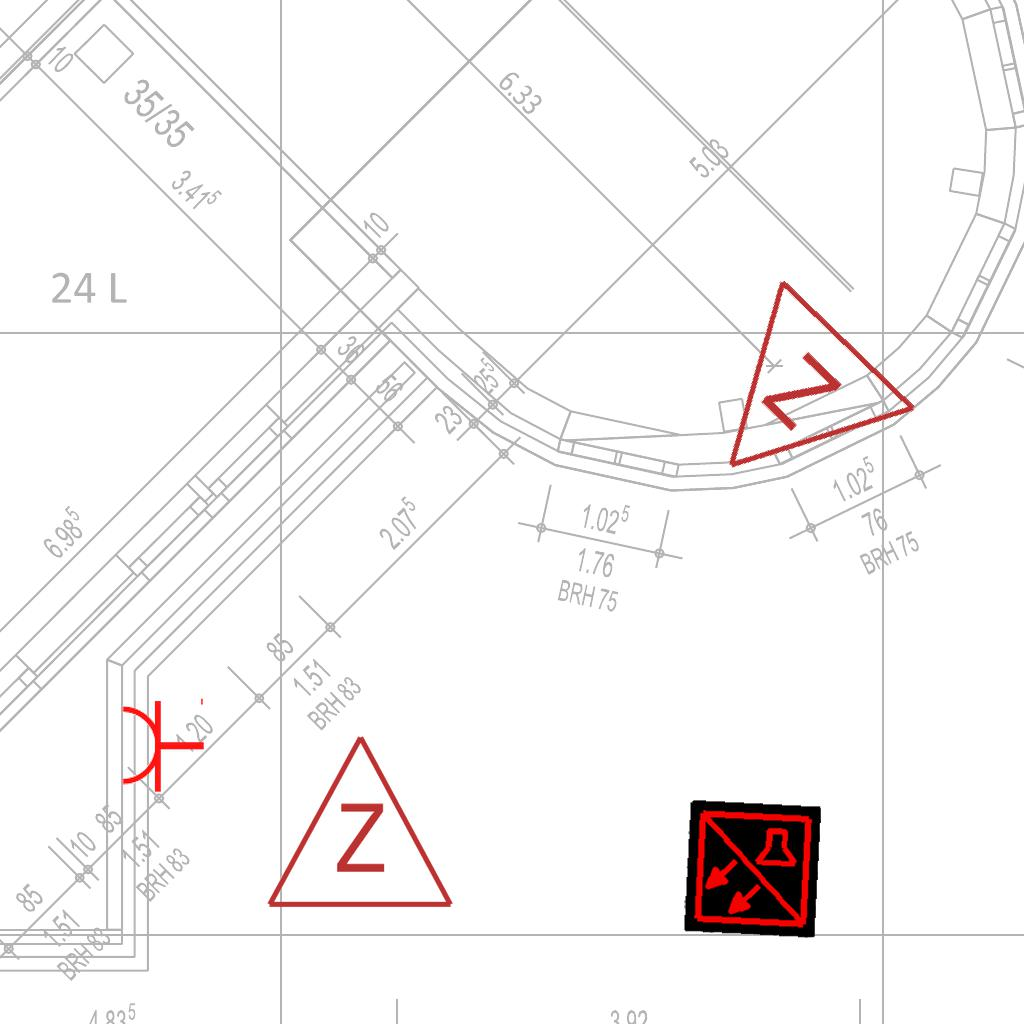OKW_Multisensormelder_(Kombination_optischer_Rauch-Kahlenmonoxid_Waerme-Melder): (682, 799, 822, 939)
Schukosteckdose_einfach: (119, 694, 206, 794)
Zimmersignalleuchte: (652, 265, 932, 547), (260, 722, 456, 922)
